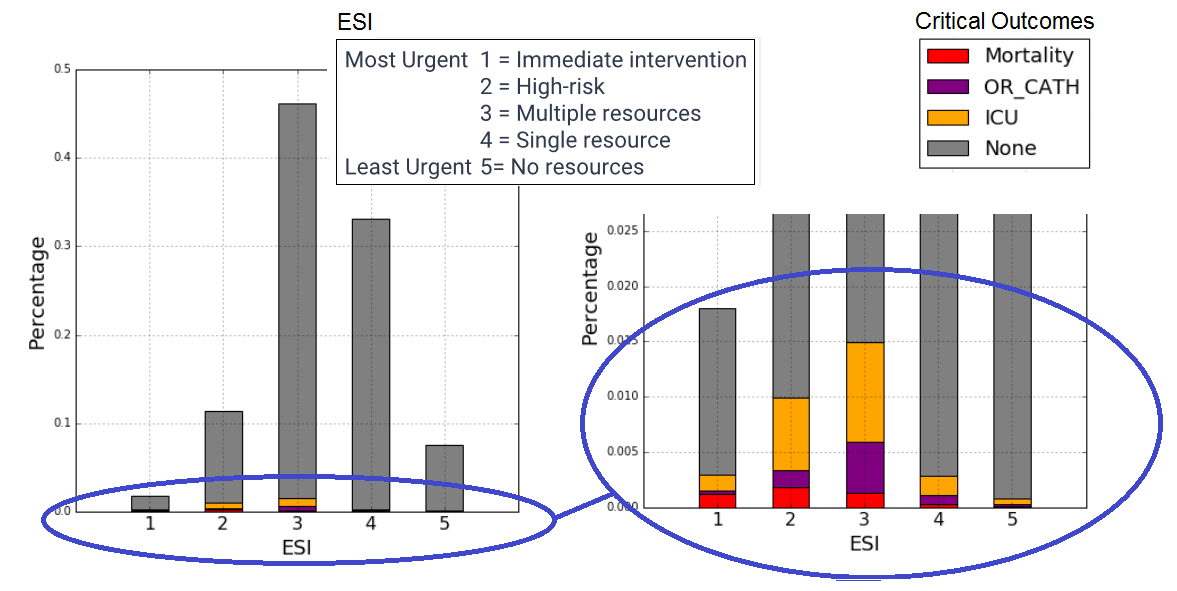

The dashboard page shown, as its layout file describes it:
{"tool":"tableau","page":{"name":"Dashboard 2","canvas":[1000,1000],"units":"permille","ordinal":1},"visuals":[{"type":"title","box":[6,13.3,523,83.2]},{"type":"worksheet","title":"Critical Outcomes Proportion","mark":"Automatic","cols":["IMMEDR"],"box":[529,13.3,465.1,973.4]},{"type":"worksheet","title":"Critical Outcomes Proportion (2)","mark":"Automatic","rows":["Calculation_663155077068849152"],"cols":["IMMEDR"],"box":[6,96.5,523,221.3]},{"type":"legend","title":"Critical Outcomes Proportion","param":"[federated.0lqj8g704y7h201dtm8pb11lsept].[none:Calculation_663155077068849152:nk","box":[418.2,100.7,115,179.6]},{"type":"worksheet","title":"Critical Outcomes Proportion (3)","mark":"Automatic","cols":["IMMEDR"],"box":[6,317.8,523,668.9]}]}

Visuals, with their boxes on the dashboard's canvas, which has no fixed pixel size, in thousandths of its width and height (x1, y1, x2, y2). These are canvas units, not pixel positions in the 1177x591 screenshot, which may show the page scaled, cropped or inside an application window:
title: x1=6 y1=13 x2=529 y2=96
"Critical Outcomes Proportion" worksheet: x1=529 y1=13 x2=994 y2=987
"Critical Outcomes Proportion (2)" worksheet: x1=6 y1=96 x2=529 y2=318
"Critical Outcomes Proportion" legend: x1=418 y1=101 x2=533 y2=280
"Critical Outcomes Proportion (3)" worksheet: x1=6 y1=318 x2=529 y2=987
